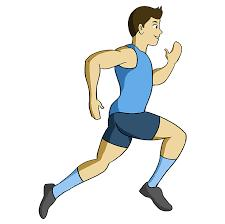Persons: (117, 3, 176, 52)
